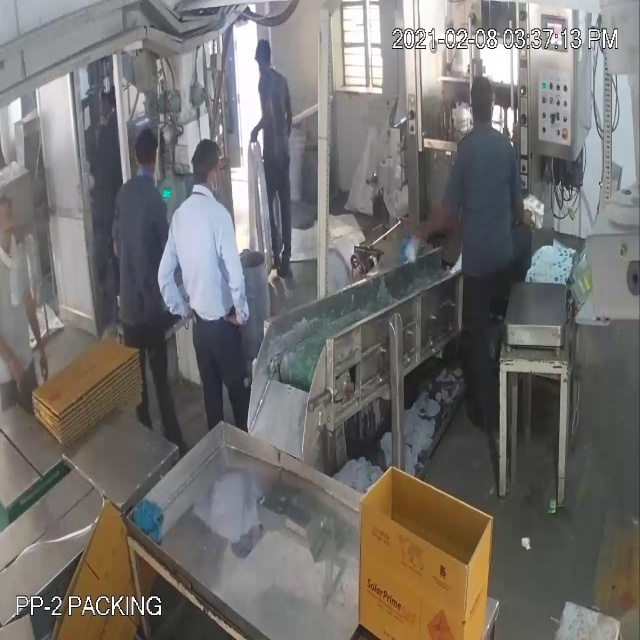Sin_guantes: (211, 214, 257, 341), (149, 220, 188, 343), (22, 274, 58, 384), (1, 312, 28, 397)
